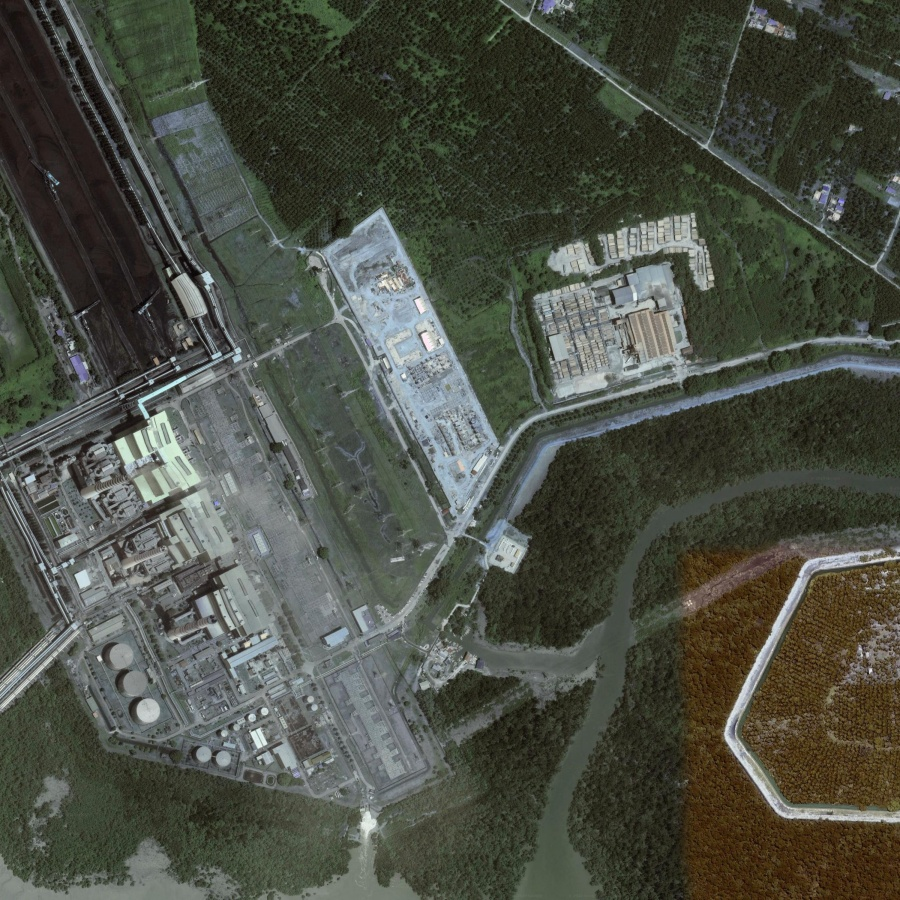PowerPlant: (5, 425, 370, 787)
